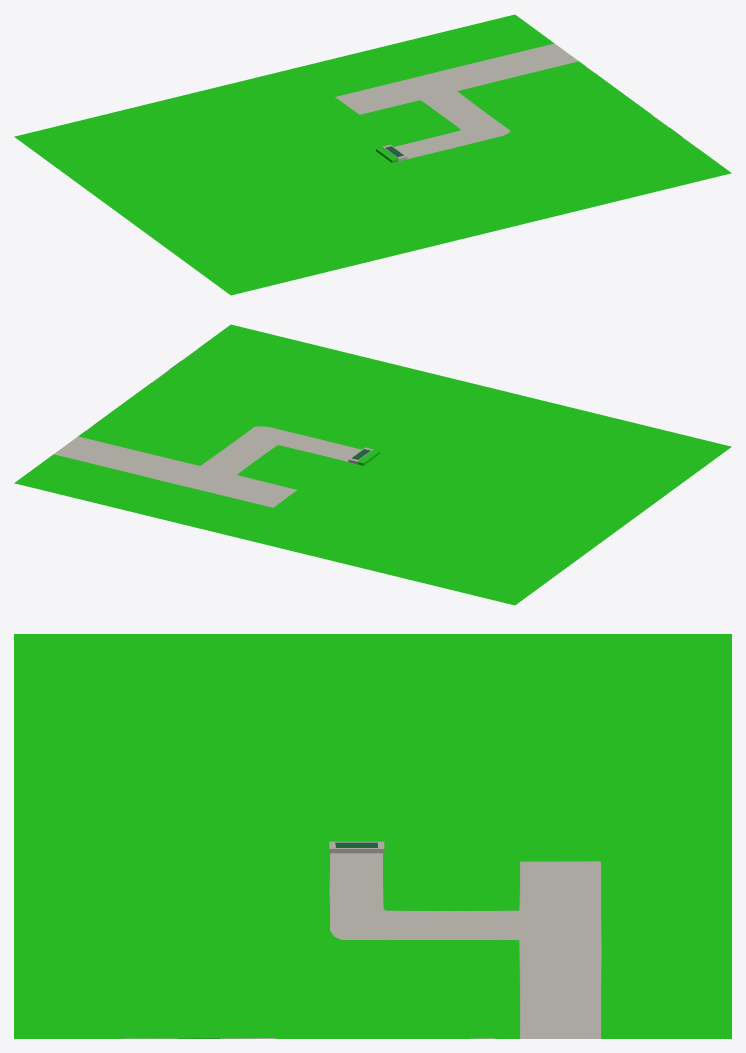
The model's file is Suelo.obj.
3 views of the same model, one above another, from view 1: azimuth 30°, elevation 25°; view 2: azimuth 150°, elevation 25°; view 3: azimuth 270°, elevation 25° (orthographic). The views are drawn at different scales.
Parts seen in each view (by area): view 1: Plane_Plane.004; view 2: Plane_Plane.004; view 3: Plane_Plane.004.
Boxes of the visible parts, box(x1,y1,x2,y2) form: Plane_Plane.004: box(14, 14, 731, 295); Plane_Plane.004: box(14, 324, 731, 605); Plane_Plane.004: box(14, 634, 731, 1038).
Bounding box in the file's own units: 504 × 2.71 × 378.
Materials: 1 (1 with a texture image).
